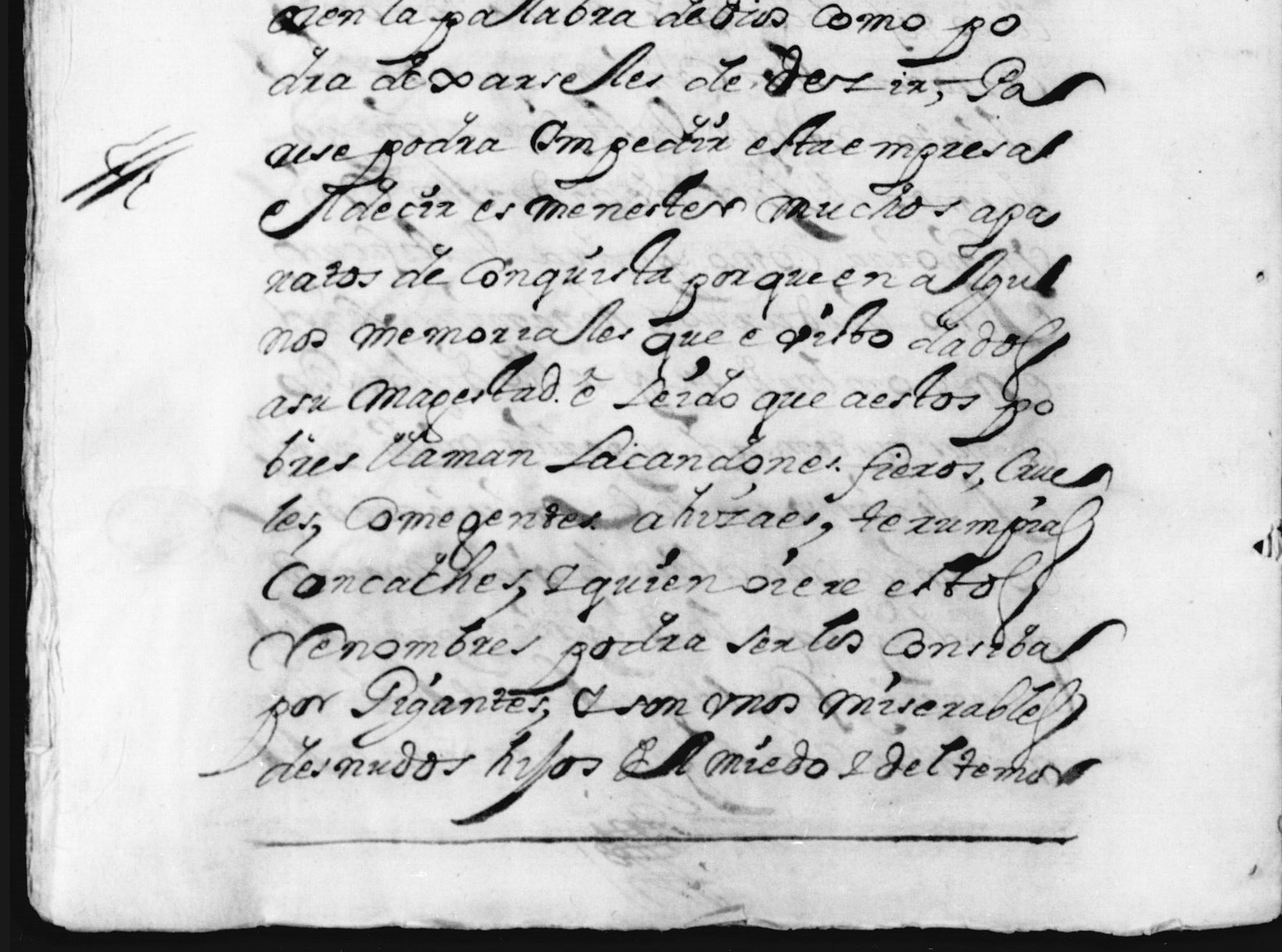lacandon: (545, 424, 841, 475)
